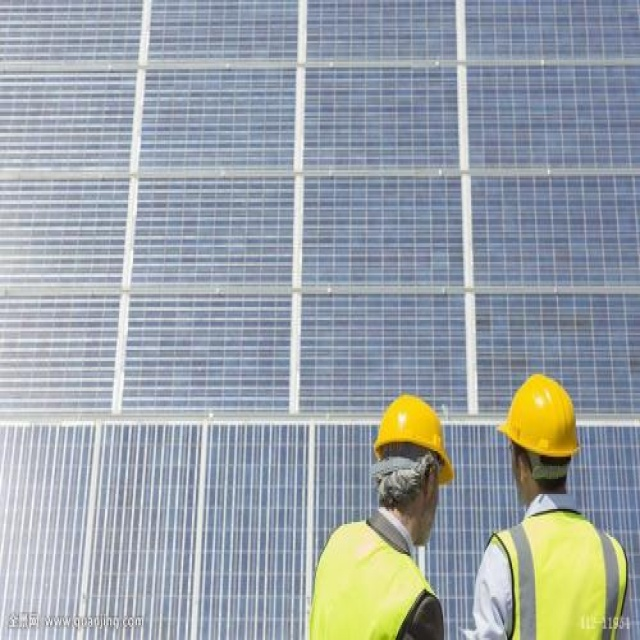Helmet: (479, 358, 594, 518), (362, 376, 463, 551)
Reflective vest: (485, 509, 634, 640), (300, 510, 443, 640)
